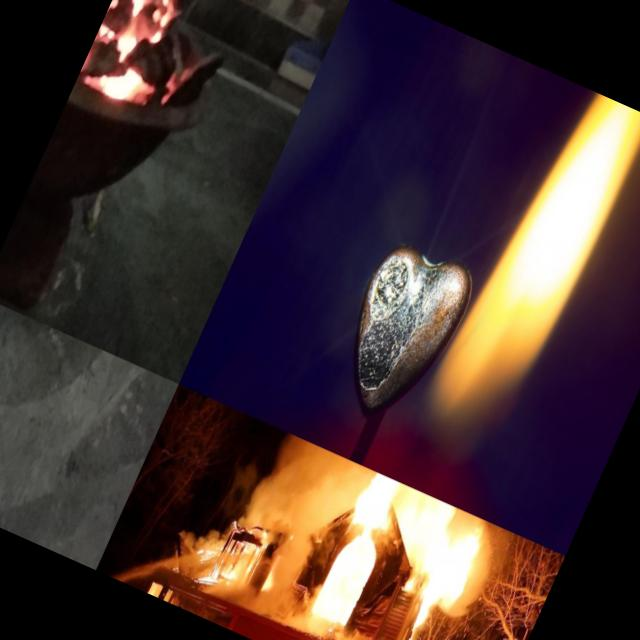fire: (413, 78, 640, 459), (406, 509, 494, 640), (344, 470, 458, 569)
smoke: (240, 429, 380, 560), (274, 583, 415, 640), (241, 532, 314, 630)
